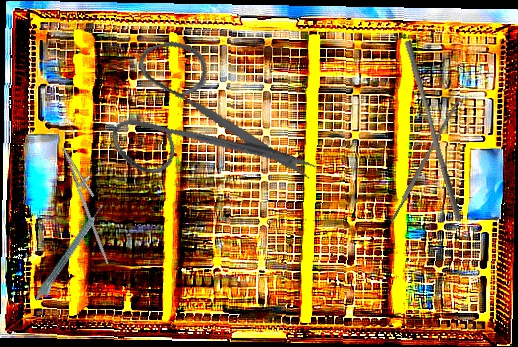Handpiece: (32, 203, 110, 305)
Iris Scissors: (92, 13, 321, 225)
Needle Holder: (47, 142, 132, 265)
Pusher: (397, 39, 470, 223)
Scalpel Handle: (387, 96, 463, 224)
